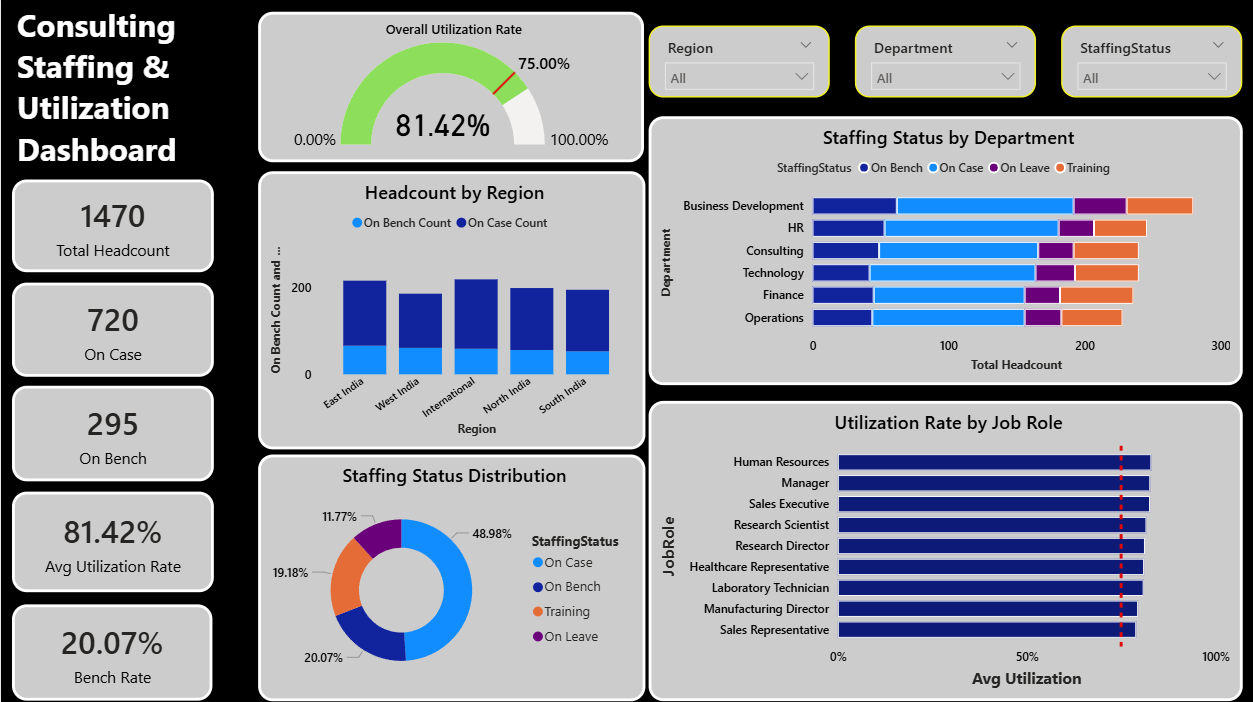

The page's visual inventory and layout, read from the dashboard file:
{"tool":"powerbi","page":{"name":"Staffing Overview","canvas":[1280,720],"ordinal":0},"visuals":[{"type":"textbox","box":[11.4,0,270,185.7],"z":1000},{"type":"card","fields":{"Values":["Sheet1.Total Headcount"]},"box":[11.4,185.7,205.7,94.3],"z":2000},{"type":"card","fields":{"Values":["Sheet1.On Case Count"]},"box":[11.4,290,205.7,95.7],"z":3000},{"type":"card","fields":{"Values":["Sheet1.On Bench Count"]},"box":[11.4,395.7,205.7,97.1],"z":4000},{"type":"card","fields":{"Values":["Sheet1.Avg Utilization"]},"box":[11.4,502.9,205.7,102.9],"z":5000},{"type":"card","fields":{"Values":["Sheet1.Bench Rate"]},"box":[11.3,618.9,204.7,98.3],"z":6000},{"type":"donutChart","title":"Staffing Status Distribution","fields":{"Category":["Sheet1.StaffingStatus"],"Y":["Sheet1.Total Headcount"]},"box":[261.7,465,395,251.7],"z":7000},{"type":"gauge","title":"Overall Utilization Rate","fields":{"Y":["Sheet1.Avg Utilization"]},"box":[261.7,13.3,393.3,153.3],"z":8000},{"type":"barChart","title":"Staffing Status by Department","fields":{"Category":["Sheet1.Department"],"Y":["Sheet1.Total Headcount"],"Series":["Sheet1.StaffingStatus"]},"box":[660.8,120.9,606,274],"z":9000},{"type":"clusteredBarChart","title":"Utilization Rate by Job Role","fields":{"Category":["Sheet1.JobRole"],"Y":["Sheet1.Avg Utilization"]},"box":[660.8,411,606,306.2],"z":10000},{"type":"columnChart","title":"Headcount by Region","fields":{"Category":["Sheet1.Region"],"Y":["Sheet1.On Bench Count","Sheet1.On Case Count"]},"box":[261.7,176.7,395,283.3],"z":11000},{"type":"slicer","fields":{"Values":["Sheet1.Department"]},"box":[870,28.3,185,73.3],"z":12000},{"type":"slicer","fields":{"Values":["Sheet1.Region"]},"box":[660,28.3,185,73.3],"z":13000},{"type":"slicer","fields":{"Values":["Sheet1.StaffingStatus"]},"box":[1081.7,28.3,185,73.3],"z":14000}]}

Visuals, with their boxes in screenshot pixels (x1, y1, x2, y2), scaled from the page's 1280x720 canvas onto the 1253x702 screenshot:
textbox: (left=11, top=0, right=275, bottom=181)
card - Sheet1.Total Headcount: (left=11, top=181, right=213, bottom=273)
card - Sheet1.On Case Count: (left=11, top=283, right=213, bottom=376)
card - Sheet1.On Bench Count: (left=11, top=386, right=213, bottom=480)
card - Sheet1.Avg Utilization: (left=11, top=490, right=213, bottom=591)
card - Sheet1.Bench Rate: (left=11, top=603, right=211, bottom=699)
"Staffing Status Distribution" donutChart: (left=256, top=453, right=643, bottom=699)
"Overall Utilization Rate" gauge: (left=256, top=13, right=641, bottom=162)
"Staffing Status by Department" barChart: (left=647, top=118, right=1240, bottom=385)
"Utilization Rate by Job Role" clusteredBarChart: (left=647, top=401, right=1240, bottom=699)
"Headcount by Region" columnChart: (left=256, top=172, right=643, bottom=448)
slicer - Sheet1.Department: (left=852, top=28, right=1033, bottom=99)
slicer - Sheet1.Region: (left=646, top=28, right=827, bottom=99)
slicer - Sheet1.StaffingStatus: (left=1059, top=28, right=1240, bottom=99)
